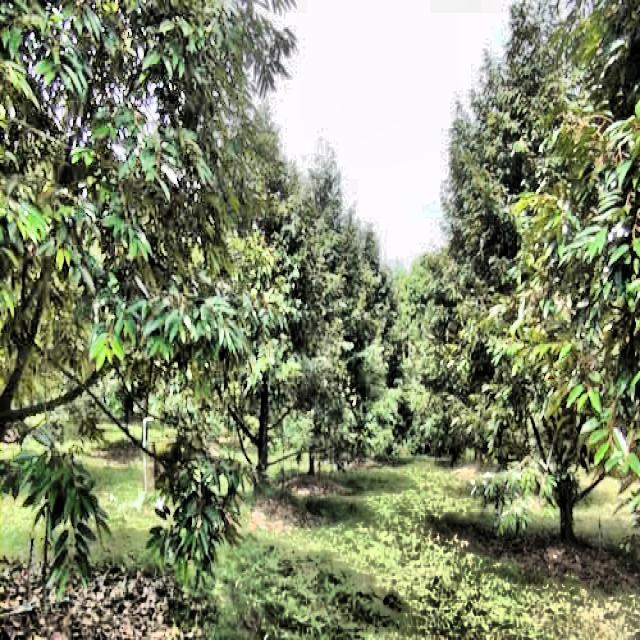arvore: (543, 334, 593, 555), (245, 339, 276, 505)
